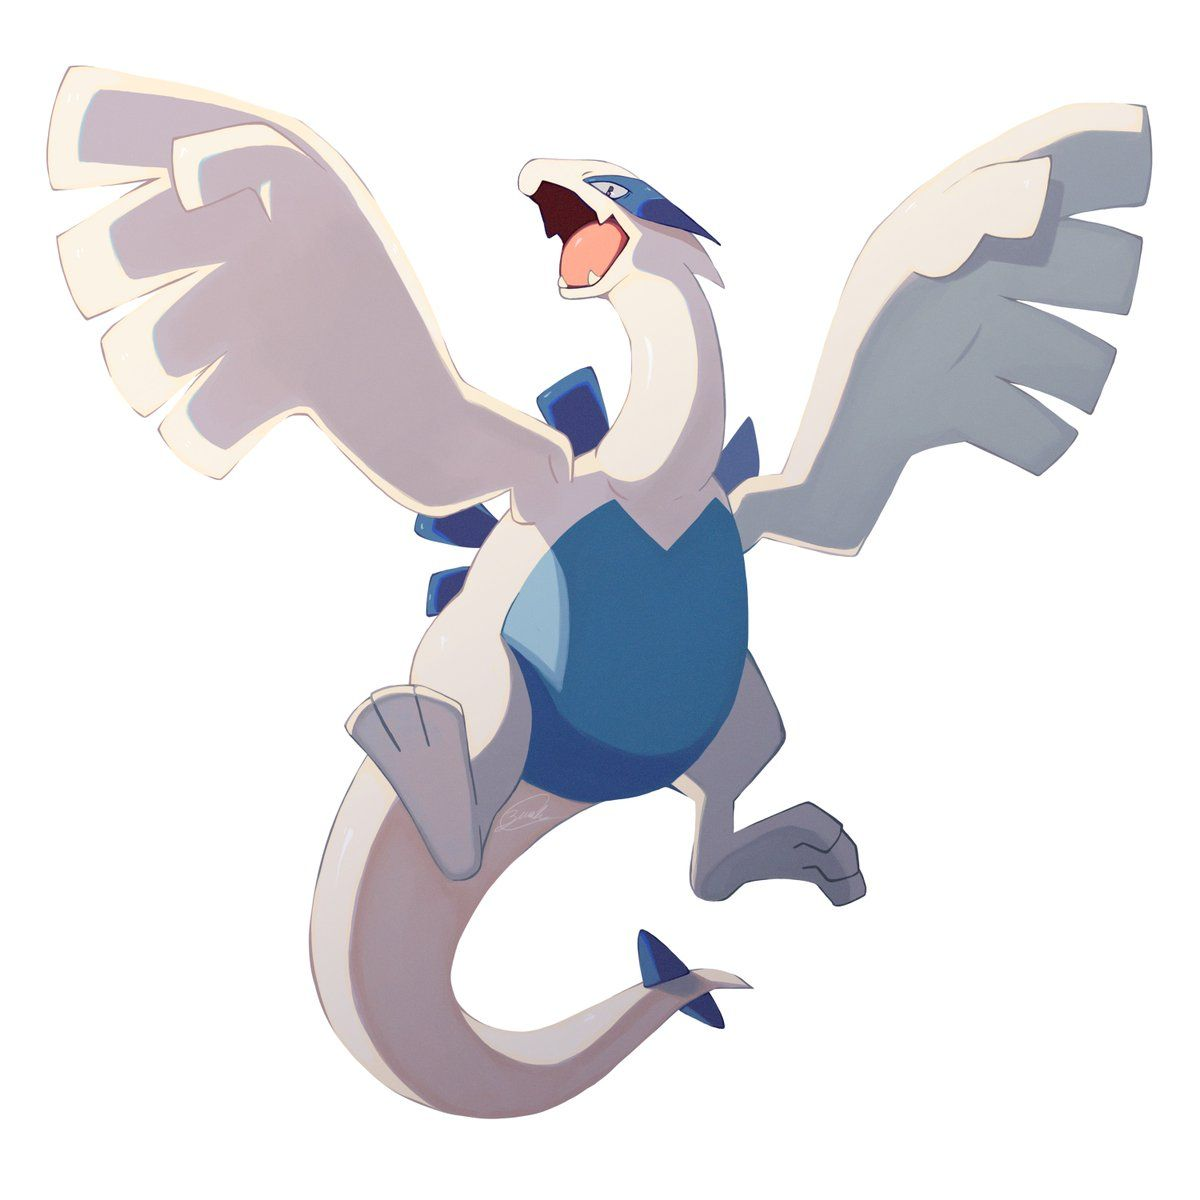lugia: (518, 154, 725, 356)
